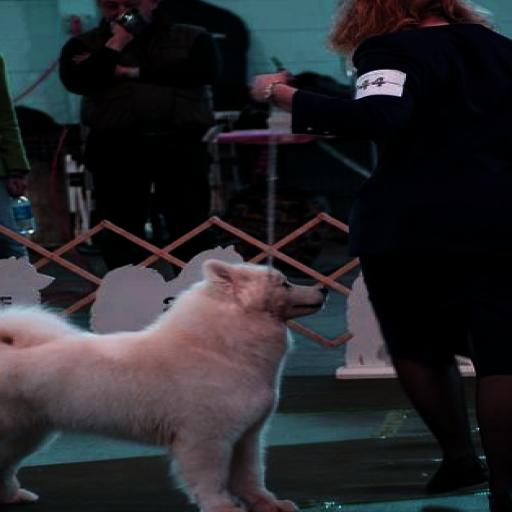dog_face: (203, 259, 332, 326)
